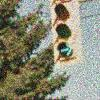traffic lights: (50, 2, 81, 63)
